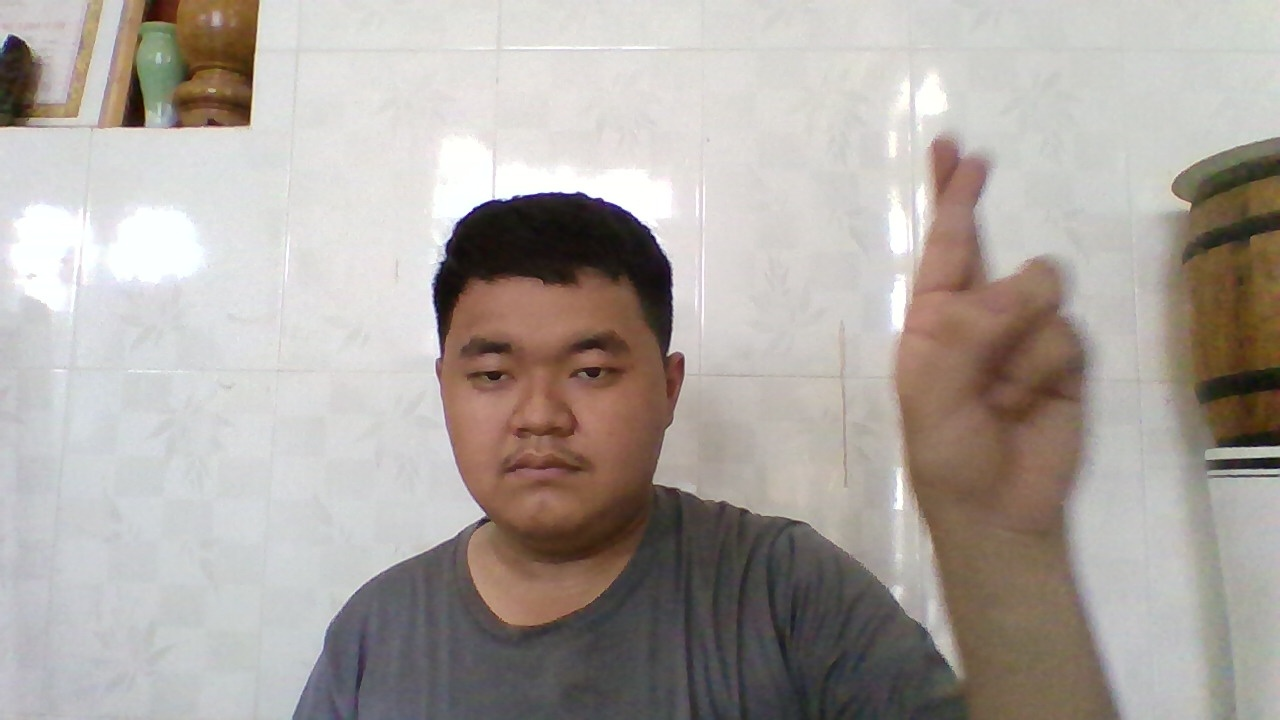R: (911, 136, 1083, 529)
